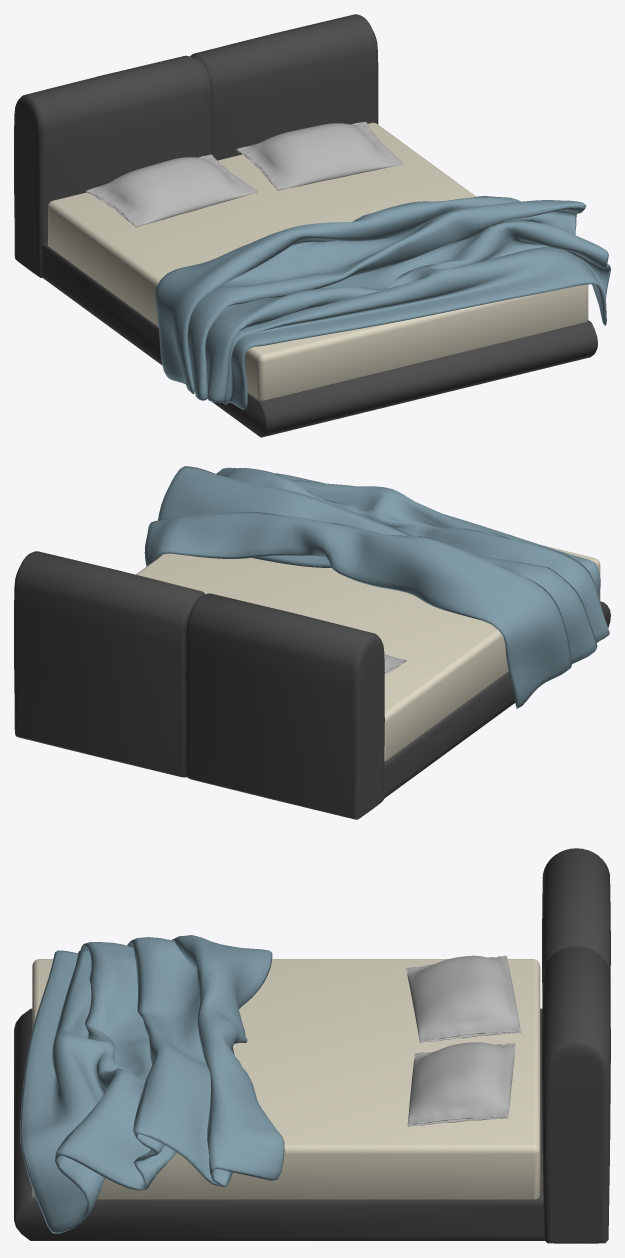
Rendered from bed.fbx.
3 renders of one model, top to bottom at view 1: azimuth 30°, elevation 25°; view 2: azimuth 150°, elevation 25°; view 3: azimuth 270°, elevation 25°, orthographic. The views are drawn at different scales.
Parts seen in each view (by area): view 1: obj_05, obj_03, obj_00, obj_04, obj_02, obj_01; view 2: obj_03, obj_05, obj_00, obj_04; view 3: obj_00, obj_05, obj_03, obj_04, obj_01, obj_02.
Boxes of the visible parts, <box> form: obj_05: <box>155,196,610,409</box>; obj_03: <box>14,14,378,277</box>; obj_00: <box>48,122,588,400</box>; obj_04: <box>42,242,597,437</box>; obj_02: <box>236,121,402,190</box>; obj_01: <box>85,154,257,227</box>; obj_03: <box>14,551,384,819</box>; obj_05: <box>144,466,609,708</box>; obj_00: <box>136,545,600,761</box>; obj_04: <box>384,601,610,798</box>; obj_00: <box>32,959,540,1199</box>; obj_05: <box>20,935,284,1233</box>; obj_03: <box>542,848,610,1243</box>; obj_04: <box>14,1008,544,1240</box>; obj_01: <box>406,955,521,1042</box>; obj_02: <box>407,1042,515,1126</box>.
Size of the model in its own units: 88.79 by 37.12 by 96.51.
